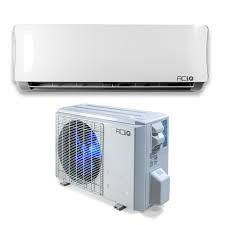ac: (9, 17, 211, 104)
